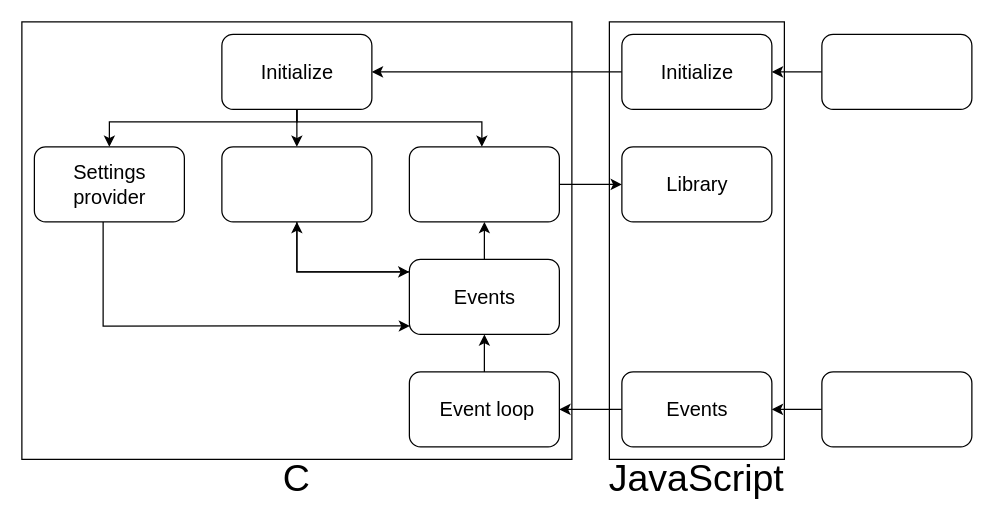
The diagram is 1003 pixels wide and 523 high, and some of its shapes have lost their labels. Here are the shapes that lost their labels. From the top down, the centre of each, then its label:
pixel 896 71: Extension startup
pixel 296 184: Cache
pixel 483 184: JavaScript provider
pixel 896 409: User input
